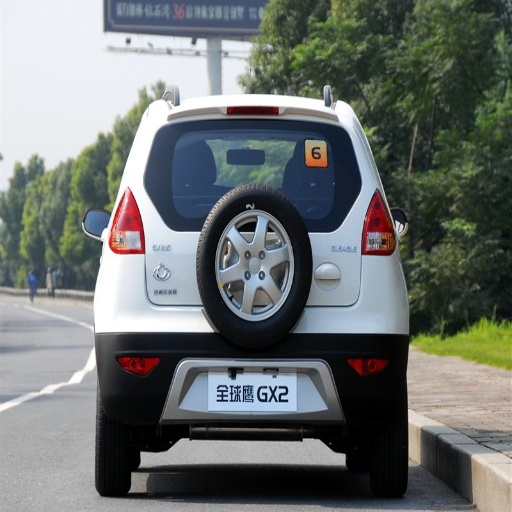back_bumper: (94, 251, 233, 428), (314, 233, 407, 411)
trunk: (109, 176, 218, 306), (297, 182, 384, 272)
